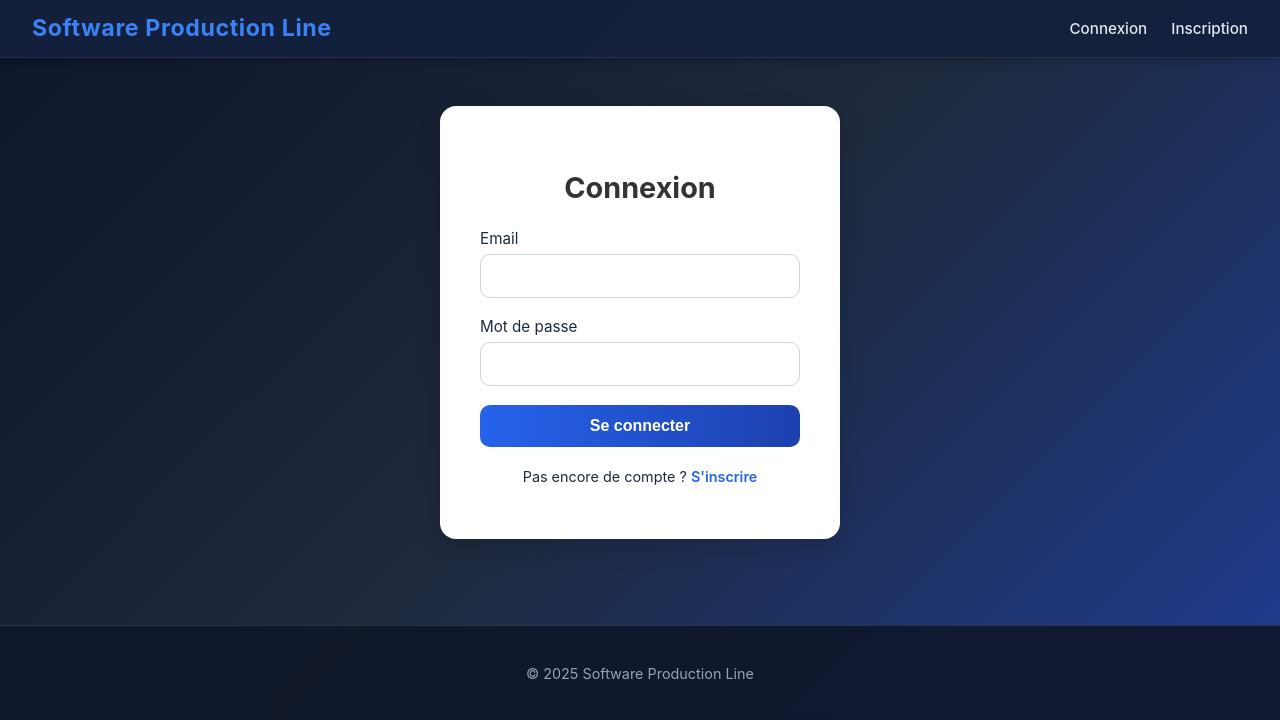
Scenario: Authentication › allows an admin to sign in and see admin navigation
The width and height of the screenshot is (1280, 720).
In the field labelled "Email": (640, 276) x1=480 y1=254 x2=800 y2=298, type "admin@example.com"
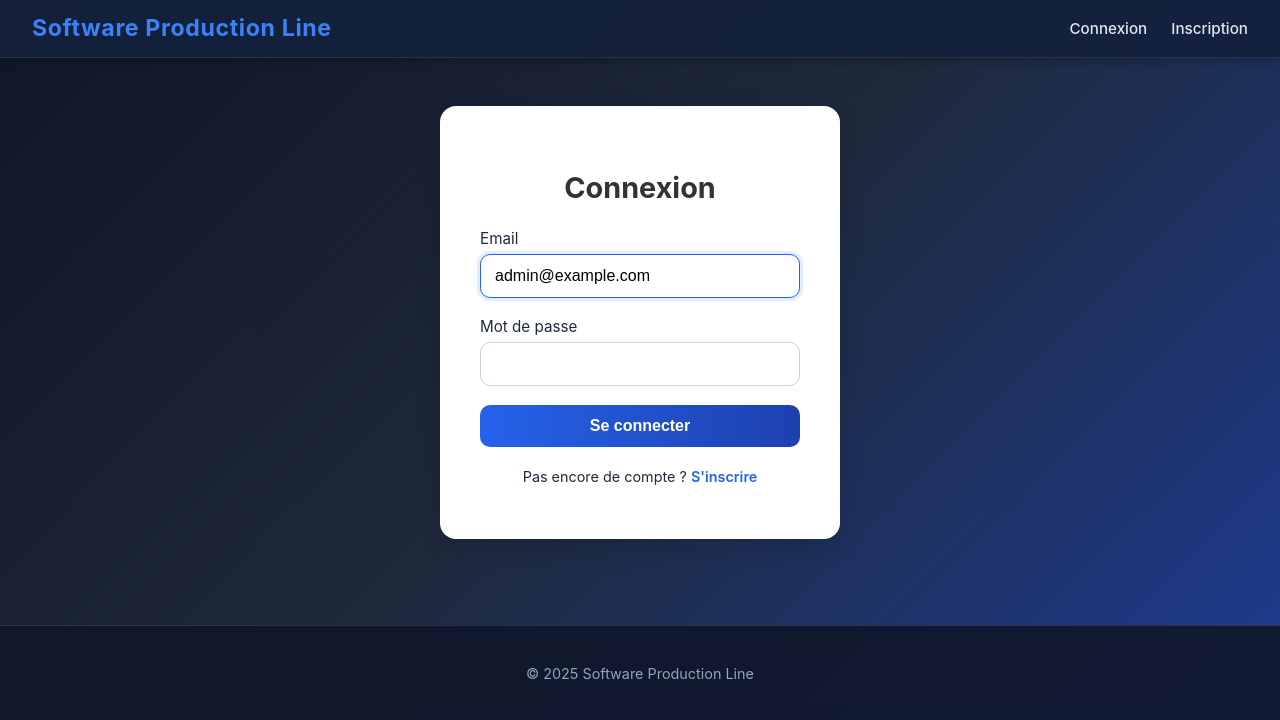
In the password field labelled "Mot de passe": (640, 364) x1=480 y1=342 x2=800 y2=386, type "super-secret"
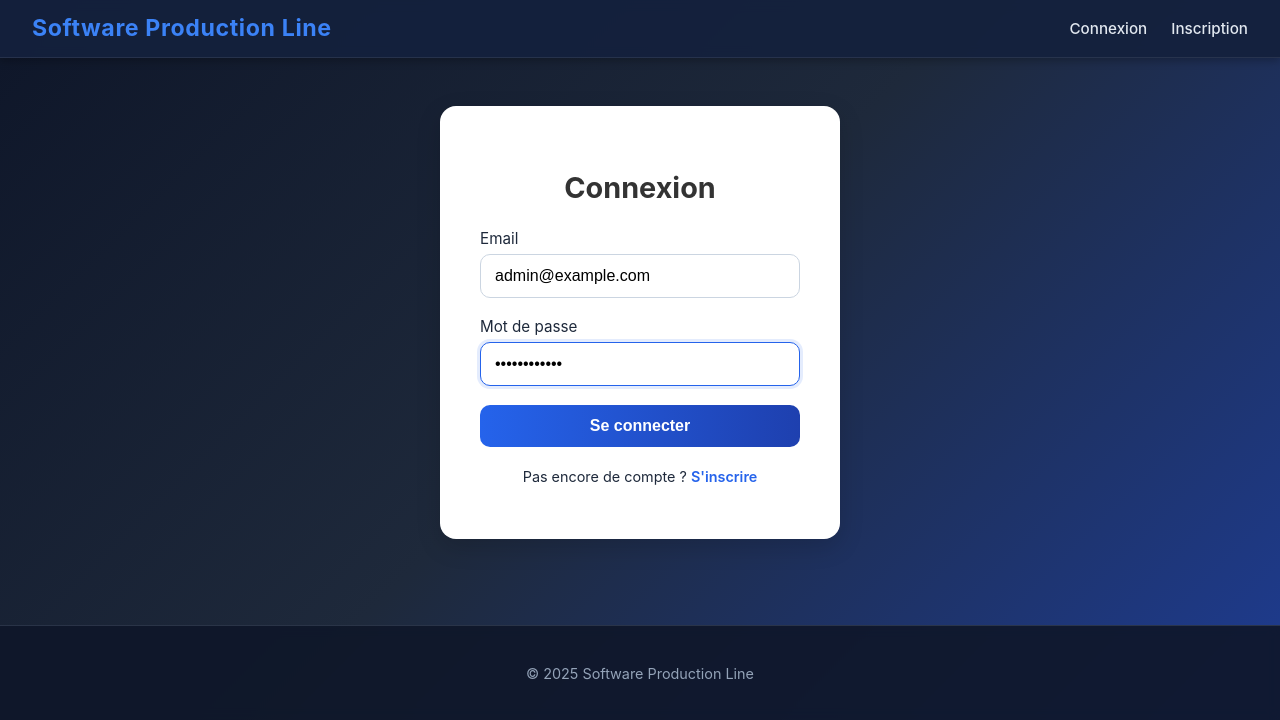
Click the button "Se connecter": (640, 426) x1=480 y1=405 x2=800 y2=447
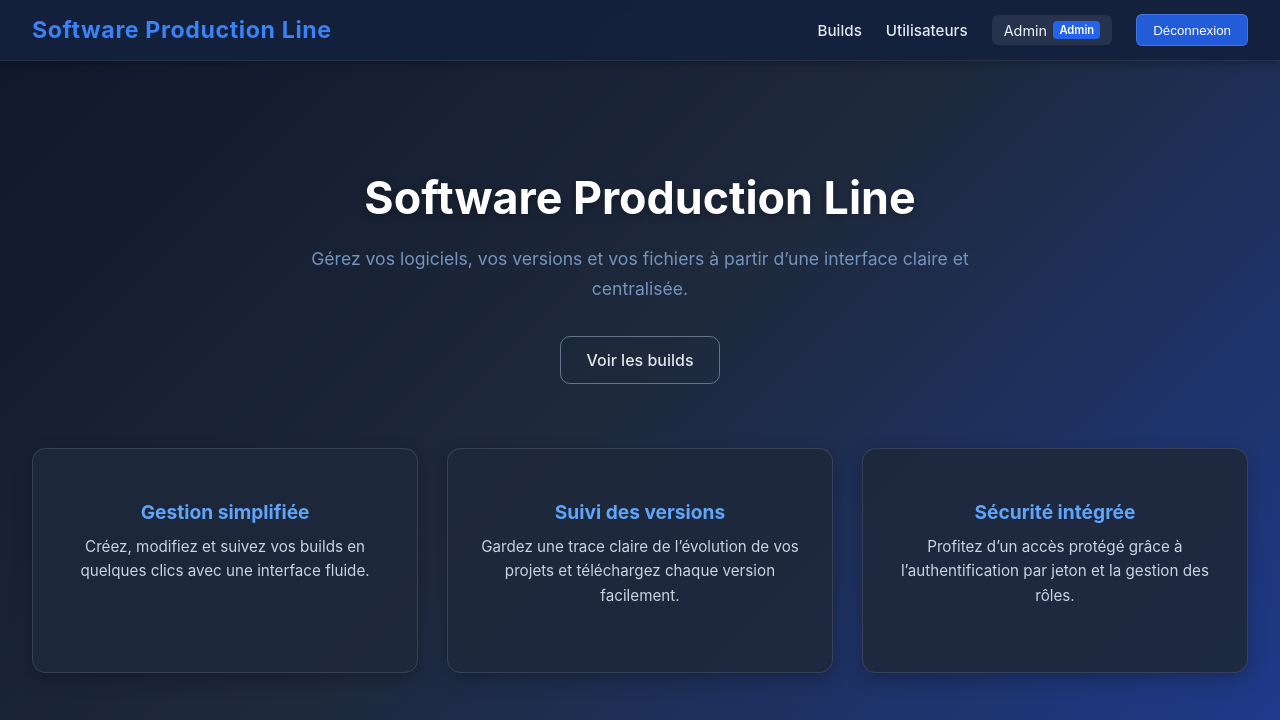
Check: the text "Utilisateurs" is shown, box x1=886 y1=21 x2=968 y2=40
Check: the text with class "admin-badge" reads "Admin", box x1=1059 y1=23 x2=1094 y2=37
